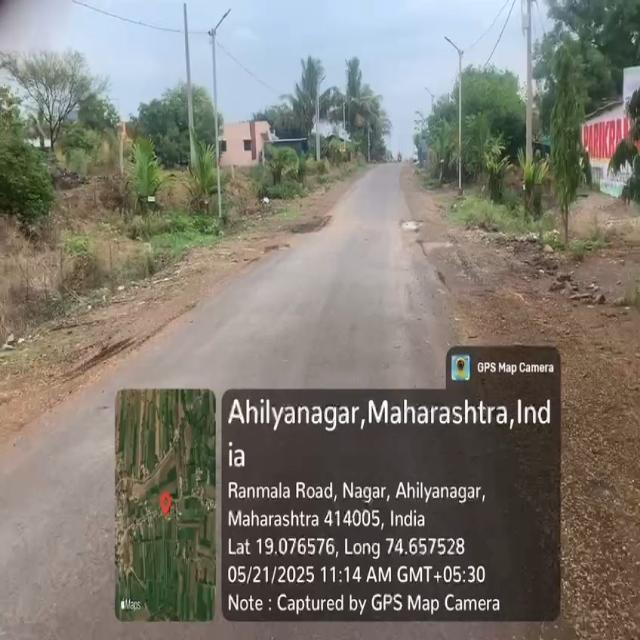speed breaker: (400, 210, 427, 238)
